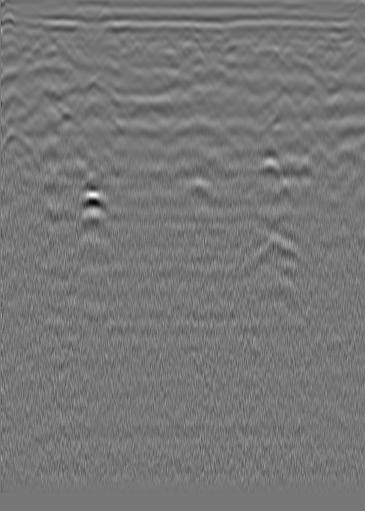가스: (74, 182, 107, 215)
상수: (323, 30, 343, 50)
오수: (22, 33, 42, 53)
우수: (182, 33, 202, 53)
